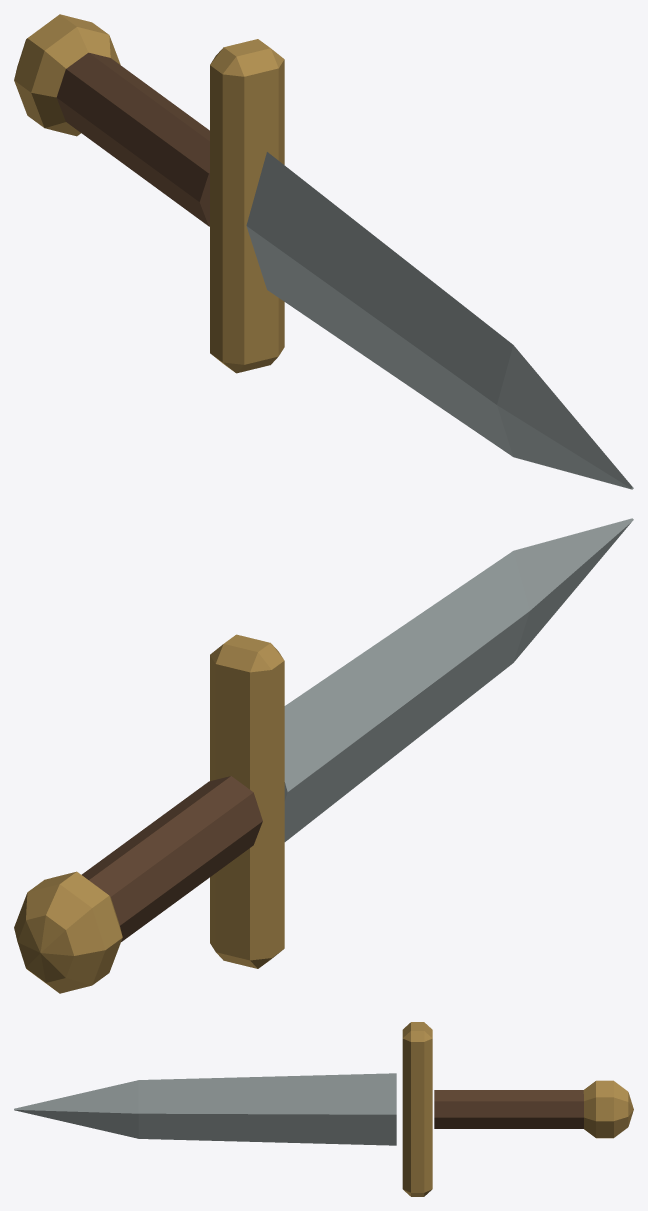
Rendered from sword.glb.
3 renders of one model, top to bottom at view 1: azimuth 30°, elevation 25°; view 2: azimuth 150°, elevation 25°; view 3: azimuth 270°, elevation 25°, orthographic. The views are drawn at different scales.
Visible parts, largest first — view 1: sword.001; view 2: sword.001; view 3: sword.001.
Boxes of the visible parts, x1=… form: sword.001: x1=14, y1=14, x2=633, y2=489; sword.001: x1=14, y1=518, x2=633, y2=993; sword.001: x1=14, y1=1022, x2=633, y2=1196.
Size of the model in its own units: 0.0666 by 0.22 by 0.745.
